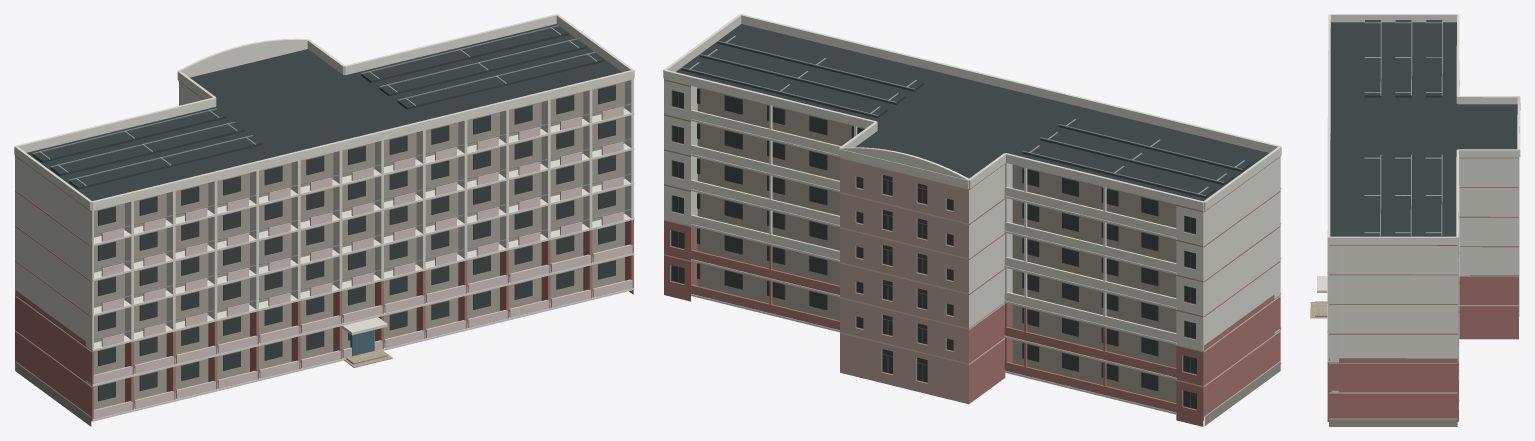
File: chunk-dorm-way-759147074.glb
3 views of the same model, side by side, from view 1: azimuth 30°, elevation 25°; view 2: azimuth 150°, elevation 25°; view 3: azimuth 270°, elevation 25° (orthographic). The views are drawn at different scales.
Parts seen in each view (by area): view 1: chunk-dorm-way-759147074; view 2: chunk-dorm-way-759147074; view 3: chunk-dorm-way-759147074.
Part boxes in pixels (<box>): chunk-dorm-way-759147074: <box>14,14,634,426</box>; chunk-dorm-way-759147074: <box>663,14,1281,426</box>; chunk-dorm-way-759147074: <box>1310,14,1520,426</box>.
Size of the model in its own units: 53.54 by 22.1 by 21.24.
13 materials, 2 textured.
